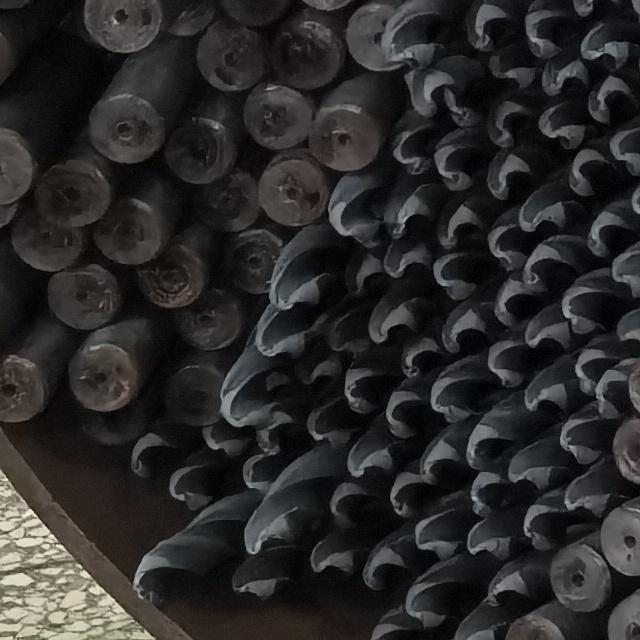tool: (166, 96, 240, 183), (268, 10, 348, 89), (30, 156, 112, 228), (88, 93, 166, 164), (308, 98, 383, 170), (255, 152, 327, 226), (1, 206, 86, 268), (62, 0, 162, 50), (243, 80, 314, 146), (45, 264, 119, 326), (90, 200, 158, 266), (137, 246, 204, 310), (549, 542, 610, 612), (194, 24, 263, 85), (219, 232, 283, 296), (74, 344, 136, 409), (78, 390, 144, 446), (350, 4, 406, 67), (182, 291, 241, 350), (164, 364, 222, 424), (197, 170, 257, 228), (506, 602, 595, 640), (600, 499, 640, 576), (0, 349, 44, 419), (0, 127, 30, 213), (161, 0, 219, 38), (215, 1, 304, 24), (613, 417, 640, 487), (608, 589, 640, 640)
tool_b: (404, 54, 488, 124), (561, 269, 628, 334), (427, 358, 492, 423), (522, 236, 590, 296), (209, 360, 274, 422), (569, 330, 626, 400), (325, 177, 385, 243), (240, 497, 311, 552), (268, 248, 332, 308), (378, 5, 446, 61), (242, 312, 316, 362), (485, 551, 552, 606), (434, 125, 489, 191), (581, 196, 637, 256), (561, 463, 623, 517), (120, 544, 181, 598), (238, 547, 288, 611), (454, 0, 518, 49), (577, 12, 635, 65), (523, 358, 571, 422), (358, 536, 412, 592), (520, 182, 578, 234), (325, 480, 383, 531), (506, 438, 560, 492), (561, 406, 614, 461), (294, 396, 354, 444), (435, 303, 488, 357), (584, 70, 638, 122), (517, 0, 568, 55), (487, 40, 538, 94), (413, 510, 465, 562), (344, 424, 394, 478), (562, 144, 615, 194), (390, 114, 432, 177), (379, 190, 428, 244), (316, 313, 376, 357), (523, 492, 570, 548), (431, 252, 485, 300), (404, 574, 458, 622), (466, 414, 512, 470), (484, 148, 534, 199), (482, 100, 534, 149), (386, 386, 434, 439), (158, 458, 210, 506), (370, 297, 424, 343), (538, 100, 587, 150), (485, 335, 532, 387), (417, 428, 463, 480), (463, 515, 518, 558), (388, 472, 437, 520), (486, 273, 528, 329), (597, 364, 640, 415), (524, 307, 572, 352), (438, 200, 482, 247), (381, 244, 434, 283), (338, 369, 386, 412), (202, 420, 251, 462), (237, 442, 284, 484), (396, 335, 440, 379), (312, 538, 358, 579), (490, 224, 530, 269), (342, 258, 388, 296), (609, 121, 640, 177), (454, 610, 511, 640), (126, 436, 168, 476), (611, 244, 640, 300), (541, 59, 584, 96), (374, 608, 422, 640), (470, 476, 509, 514), (617, 301, 640, 353), (300, 356, 338, 384), (559, 1, 621, 18), (258, 414, 292, 442)
